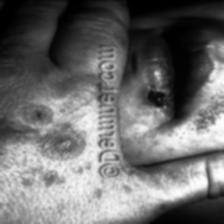Toxin: (146, 90, 174, 110), (56, 140, 76, 154), (36, 110, 50, 118)
